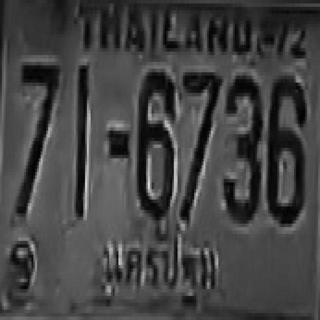N01: (74, 65, 89, 217)
N03: (222, 72, 261, 220)
N06: (266, 72, 305, 220), (136, 69, 173, 217)
N07: (16, 62, 56, 214), (180, 67, 219, 218)
P28: (94, 224, 221, 310)
